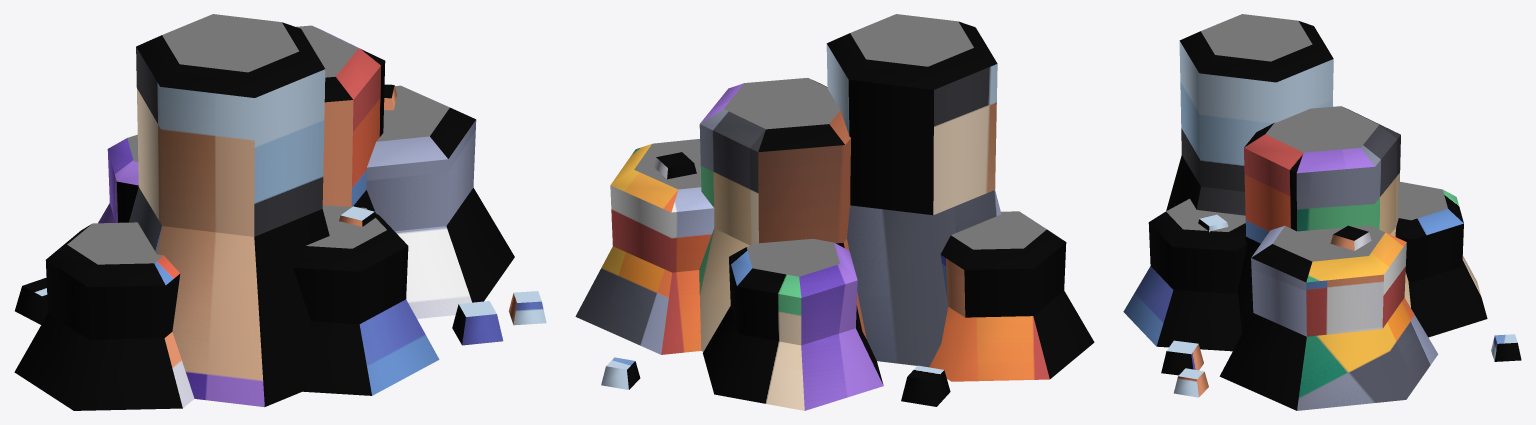
Rendered from SM_RocksMoss_A.fbx.
3 views of the same model, side by side, from view 1: azimuth 30°, elevation 25°; view 2: azimuth 150°, elevation 25°; view 3: azimuth 270°, elevation 25° (orthographic). The views are drawn at different scales.
Visible parts, largest first — view 1: SM_RocksMoss_A; view 2: SM_RocksMoss_A; view 3: SM_RocksMoss_A.
Boxes of the visible parts, x1,y1,x2,y2 form: SM_RocksMoss_A: (14,14,546,410); SM_RocksMoss_A: (575,14,1094,410); SM_RocksMoss_A: (1123,14,1521,410).
Size of the model in its own units: 98.75 by 58.77 by 84.73.
